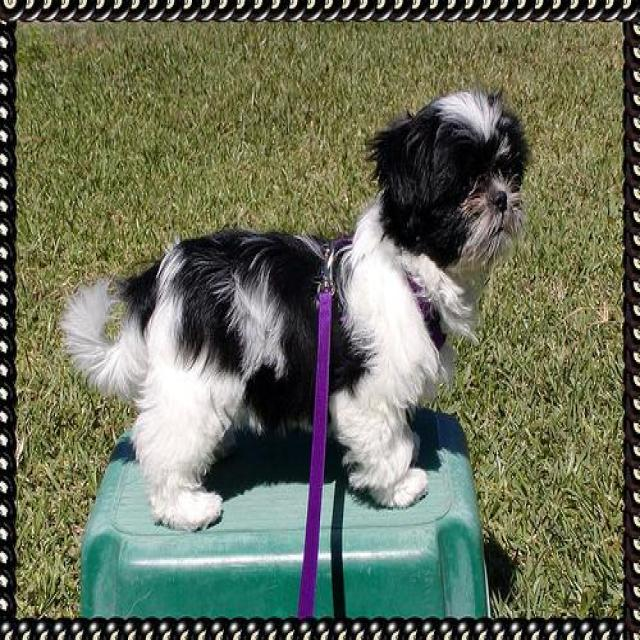shih_tzu: (60, 75, 539, 527)
